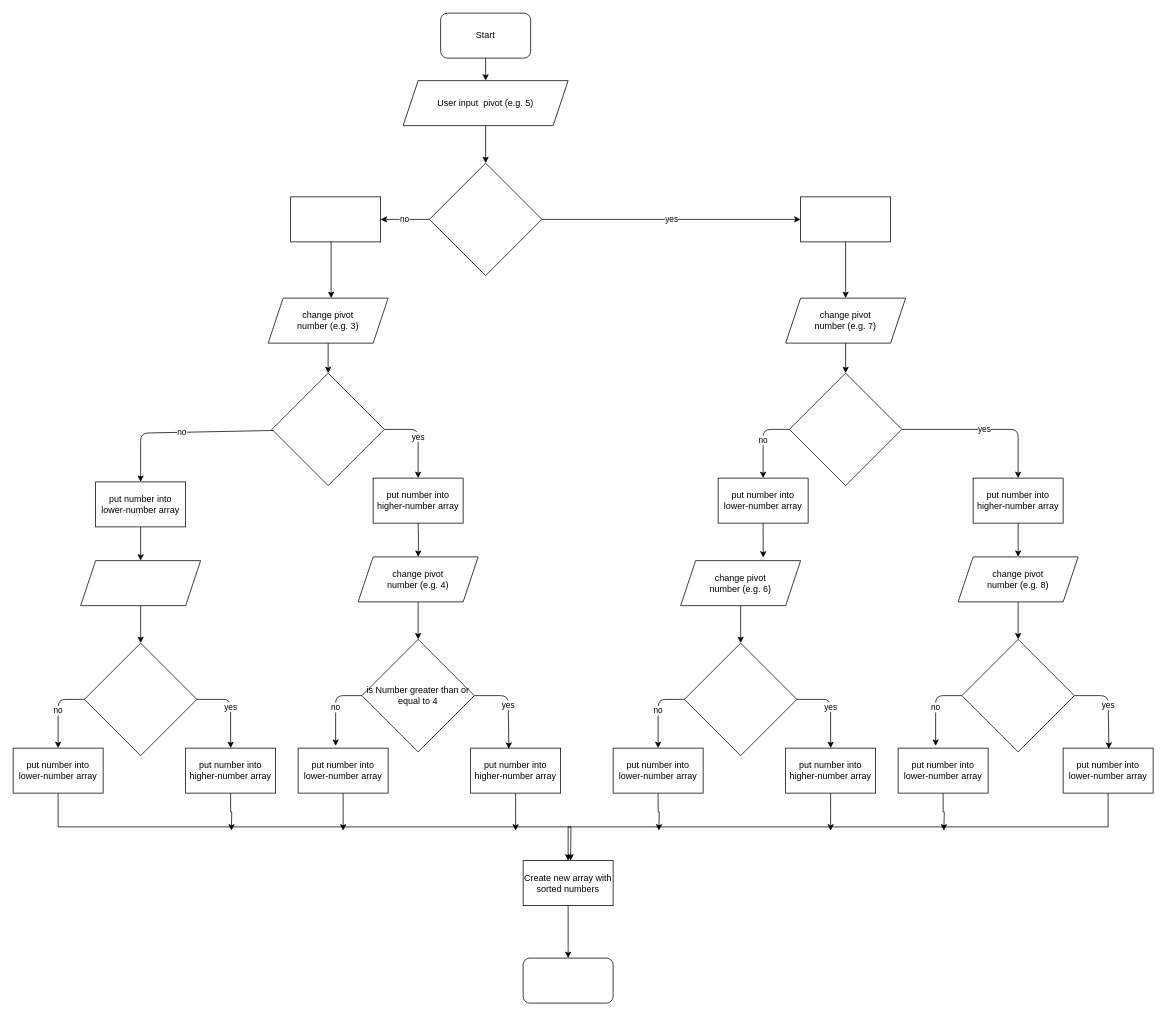
This 1166x1016 diagram has some shape labels left out. The shapes that lost their labels are listed below. From the top down, each one's centre as x and y in pixels, then its label:
At point 335,219: "put number into lower-number-array".
At point 485,219: "is Number greater than 5".
At point 845,219: "put number into higher-number-array".
At point 327,429: "is Number greater than 3".
At point 845,429: "is Number greater than 7".
At point 140,583: "change pivot number (e.g. 2)".
At point 140,699: "is Number greater than or equal to 2".
At point 740,699: "is Number greater than or equal to 6".
At point 1017,695: "is Number greater than or equal to 8".
At point 567,980: "End".
